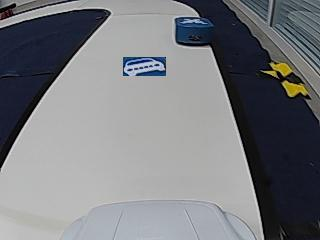prop: (176, 17, 214, 46)
